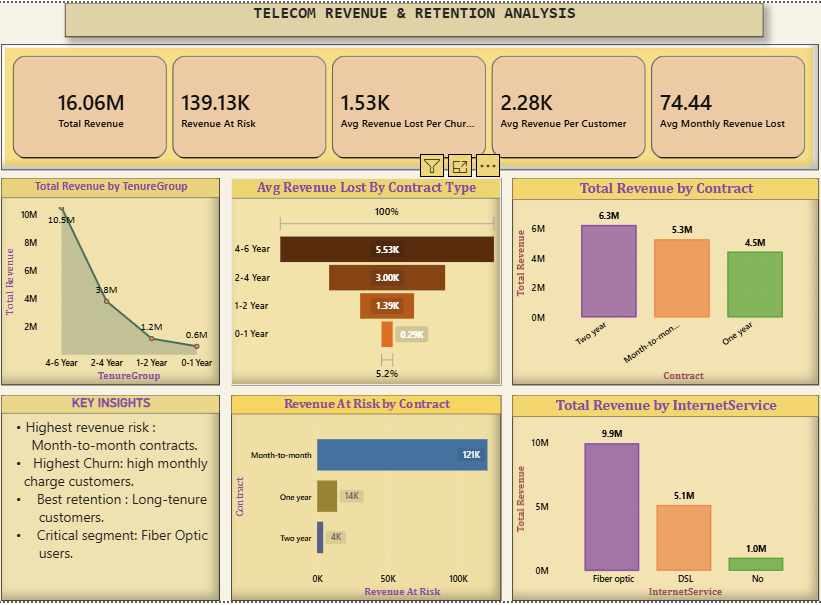

The dashboard page shown, as its layout file describes it:
{"tool":"powerbi","page":{"name":"Page 3","canvas":[1282,930],"ordinal":2},"visuals":[{"type":"cardVisual","fields":{"Data":["telco_churn_cleaned.Total Revenue","telco_churn_cleaned.Revenue At Risk","telco_churn_cleaned.Avg Revenue Lost Per Churned Customer","telco_churn_cleaned.Avg Revenue Per Customer","telco_churn_cleaned.Avg Monthly Revenue Lost"]},"box":[4.9,63.3,1270.6,196.4],"z":0},{"type":"clusteredColumnChart","fields":{"Y":["telco_churn_cleaned.Total Revenue"],"Category":["telco_churn_cleaned.Contract"]},"box":[798.7,271.9,477.1,321.7],"z":1000},{"type":"clusteredColumnChart","fields":{"Y":["telco_churn_cleaned.Total Revenue"],"Category":["telco_churn_cleaned.InternetService"]},"box":[798.7,609.1,477.1,320.1],"z":2000},{"type":"funnel","title":"Avg Revenue Lost By Contract Type","fields":{"Y":["telco_churn_cleaned.Avg Revenue Lost Per Churned Customer"],"Category":["telco_churn_cleaned.TenureGroup"]},"box":[362.1,271.9,419.6,321.7],"z":3000},{"type":"textbox","title":"TELECOM REVENUE & RETENTION ANALYSIS","box":[104.1,0,1084.6,52.8],"z":4000},{"type":"lineChart","fields":{"Category":["telco_churn_cleaned.TenureGroup"],"Y":["telco_churn_cleaned.Total Revenue"]},"box":[4.7,271.9,340.3,321.7],"z":6000},{"type":"textbox","title":"KEY INSIGHTS","box":[5,609,340,320],"z":7000},{"type":"clusteredBarChart","fields":{"Category":["telco_churn_cleaned.Contract"],"Y":["telco_churn_cleaned.Revenue At Risk"]},"box":[362.1,609.1,419.6,320.1],"z":7001}]}

Visuals, with their boxes in screenshot pixels (x1, y1, x2, y2), scaled from the page's 1282x930 canvas onto the 821x605 screenshot:
cardVisual - telco_churn_cleaned.Total Revenue x telco_churn_cleaned.Revenue At Risk: 3,41,817,169
clusteredColumnChart - telco_churn_cleaned.Total Revenue x telco_churn_cleaned.Contract: 511,177,817,386
clusteredColumnChart - telco_churn_cleaned.Total Revenue x telco_churn_cleaned.InternetService: 511,396,817,604
"Avg Revenue Lost By Contract Type" funnel: 232,177,501,386
"TELECOM REVENUE & RETENTION ANALYSIS" textbox: 67,0,761,34
lineChart - telco_churn_cleaned.TenureGroup x telco_churn_cleaned.Total Revenue: 3,177,221,386
"KEY INSIGHTS" textbox: 3,396,221,604
clusteredBarChart - telco_churn_cleaned.Contract x telco_churn_cleaned.Revenue At Risk: 232,396,501,604
